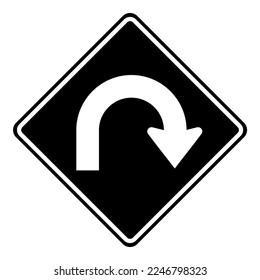Right Hair Pin Bend: (12, 13, 251, 245)
